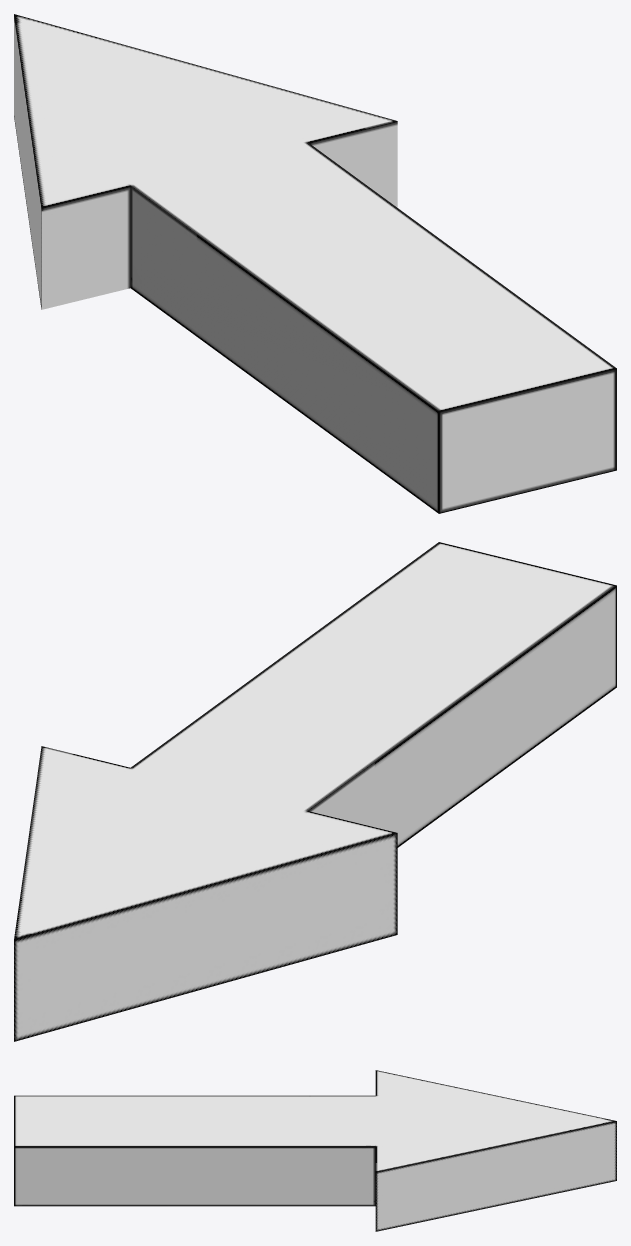
File: Arrow.fbx
3 renders of one model, top to bottom at view 1: azimuth 30°, elevation 25°; view 2: azimuth 150°, elevation 25°; view 3: azimuth 270°, elevation 25°, orthographic. The views are drawn at different scales.
Parts seen in each view (by area): view 1: pCube1; view 2: pCube1; view 3: pCube1.
Part boxes in pixels (x1,y1,x2,y2): pCube1: [14, 14, 616, 513]; pCube1: [14, 542, 616, 1041]; pCube1: [14, 1070, 616, 1231].
Size of the model in its own units: 2 by 0.5475 by 5.
